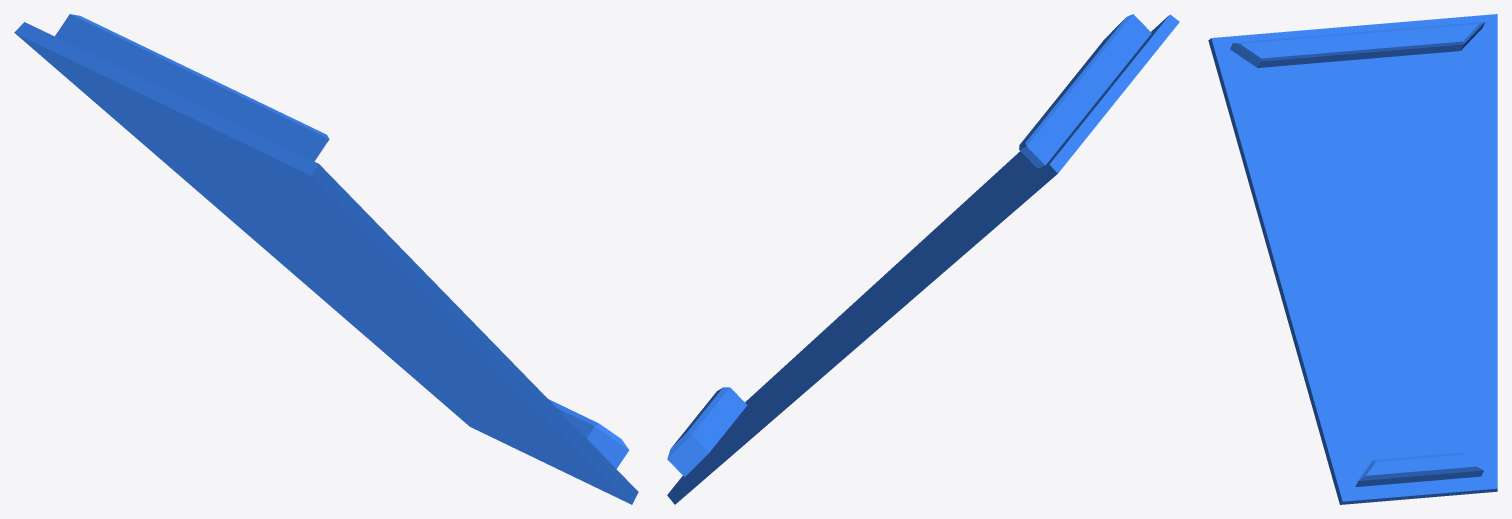
The model's file is Baluminaria-Seg01.fbx.
The picture shows the model from 3 angles, left to right: view 1: azimuth 30°, elevation 25°; view 2: azimuth 150°, elevation 25°; view 3: azimuth 270°, elevation 25°; orthographic projection. The views are drawn at different scales.
Visible parts, largest first — view 1: Seg01; view 2: Seg01; view 3: Seg01.
Boxes of the visible parts, x1,y1,x2,y2 form: Seg01: (14, 14, 638, 504); Seg01: (667, 14, 1179, 504); Seg01: (1208, 14, 1497, 504).
Size of the model in its own units: 3143 by 3069 by 2370.
